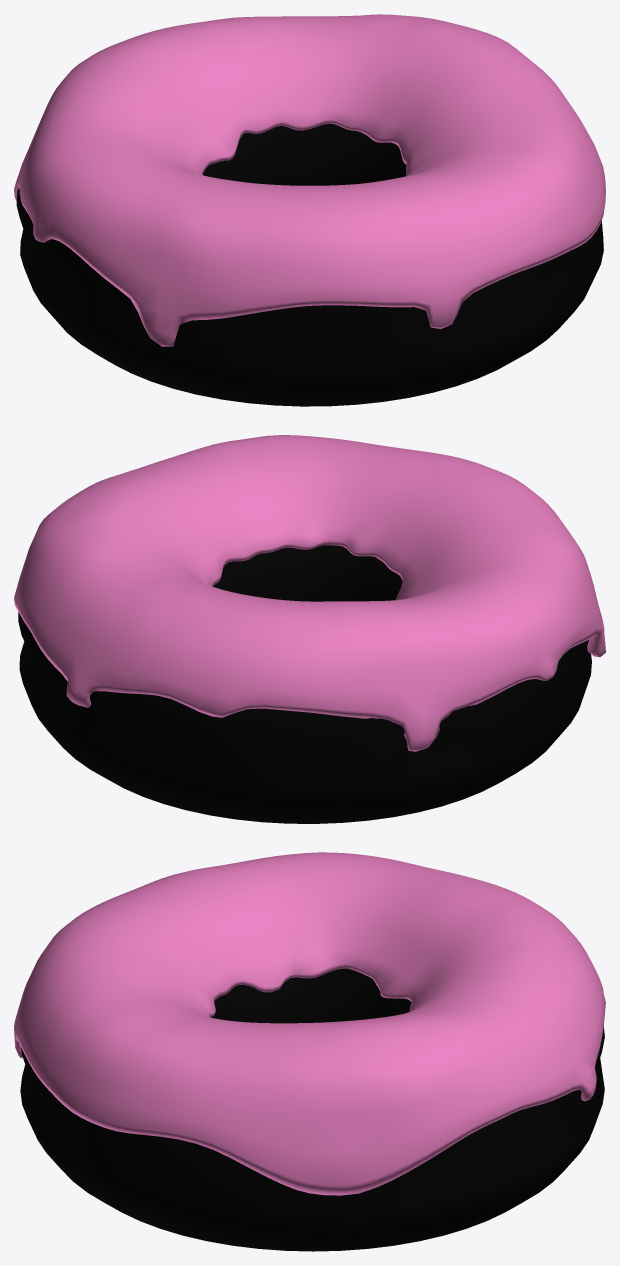
Rendered from donut2.glb.
The picture shows the model from 3 angles, top to bottom: view 1: azimuth 30°, elevation 25°; view 2: azimuth 150°, elevation 25°; view 3: azimuth 270°, elevation 25°; orthographic projection.
Parts seen in each view (by area): view 1: Icing.001, Donut.001; view 2: Icing.001, Donut.001; view 3: Icing.001, Donut.001.
Part boxes in pixels (left/top/right/bottom): Icing.001: left=14, top=14, right=605, bottom=346; Donut.001: left=16, top=123, right=603, bottom=406; Icing.001: left=14, top=435, right=605, bottom=751; Donut.001: left=18, top=545, right=591, bottom=823; Icing.001: left=14, top=852, right=605, bottom=1195; Donut.001: left=20, top=968, right=604, bottom=1251.
Bounding box in the file's own units: 0.1559 × 0.0613 × 0.1519.
2 materials, 1 textured.
